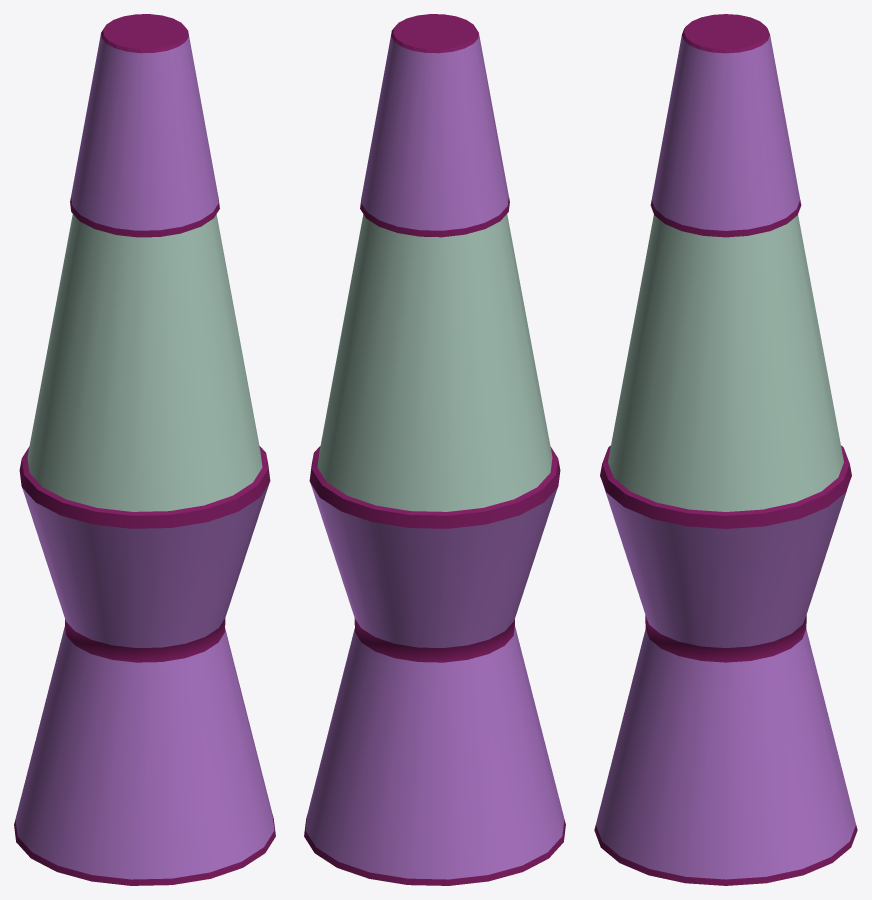
Rendered from plant.glb.
3 renders of one model, left to right at view 1: azimuth 30°, elevation 25°; view 2: azimuth 150°, elevation 25°; view 3: azimuth 270°, elevation 25°, orthographic.
Visible parts, largest first — view 1: plant; view 2: plant; view 3: plant.
Boxes of the visible parts, <box> form: plant: <box>14,14,275,885</box>; plant: <box>304,14,565,885</box>; plant: <box>594,14,857,885</box>.
Size of the model in its own units: 0.4083 by 1.37 by 0.4083.
